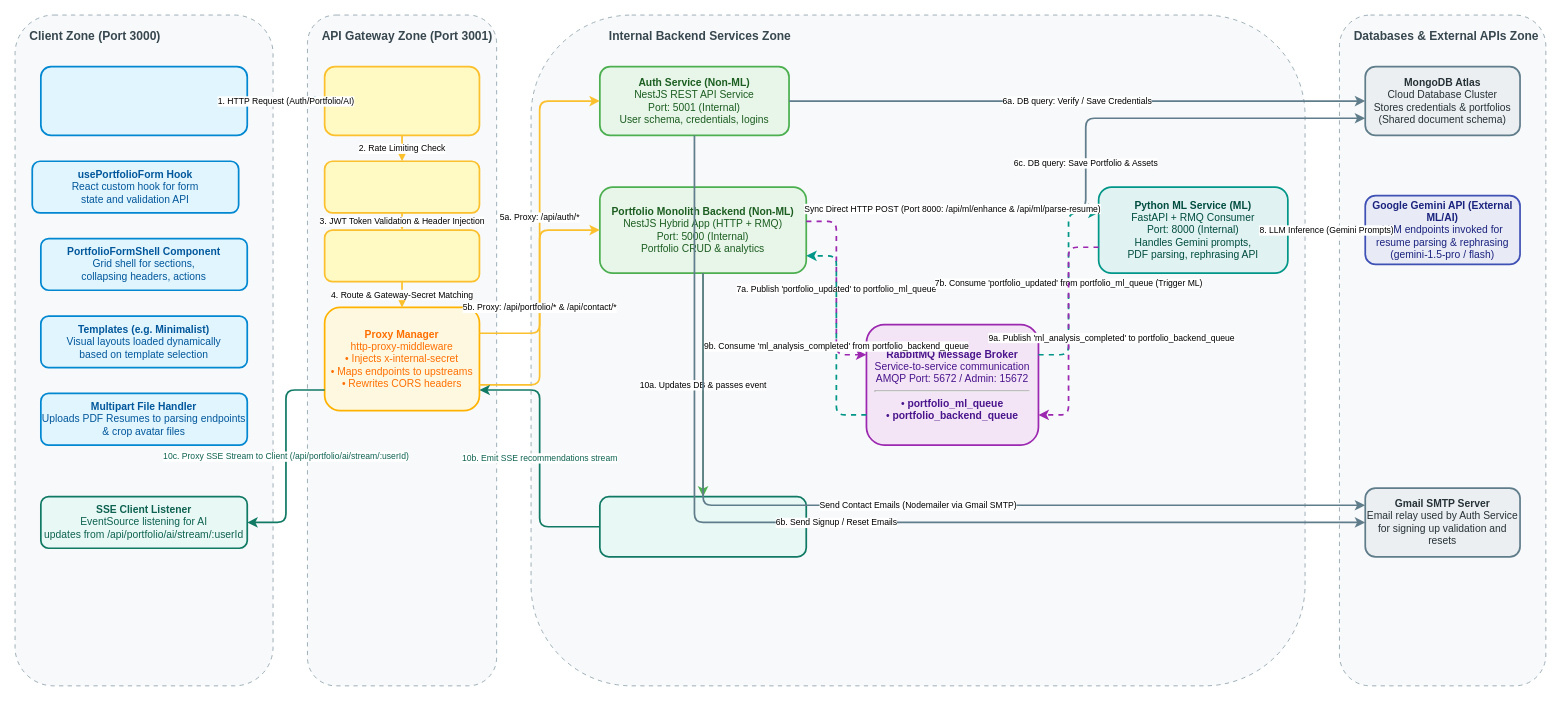
The diagram is 1561 pixels wide and 701 high, and some of its shapes have lost their labels. The centre of each missing label's shape, as x and y in pixels:
AiStreamService (SSE) SSE emitter for pushing new recommendations to client: (703,526)
API Gateway NestJS HTTP Gateway Facade Listens on Port: 3001: (401,100)
JwtVerifyMiddleware Validates cookie JWTs, injects x-user-id header: (401,255)
RateLimiterMiddleware Limits requests to prevent abuse & DDoS attacks: (401,186)
React SPA Frontend React 18 + TS + Bootstrap Renders editable portfolios: (144,100)
